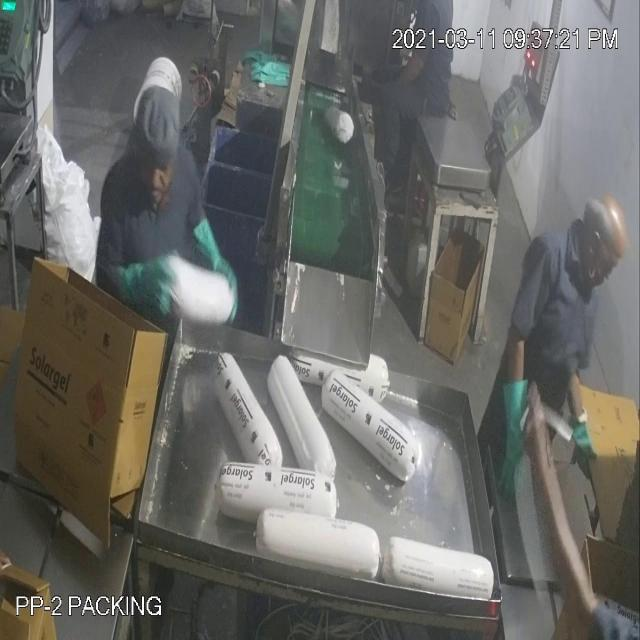No_Gloves: (30, 52, 586, 496)
